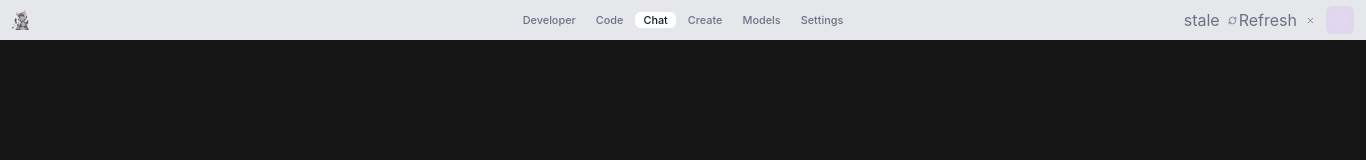
Test: die stale-Chip-X entfernt den Chip wirklich › bleibt weg, nachdem der Nutzer sie geklickt hat, statt im selben Zug wiederzukommen
Expected: the text "stale" is shown, [1184, 8, 1220, 32]
Click the button named "Dismiss". click: (1310, 20)
box: [1305, 14, 1316, 26]
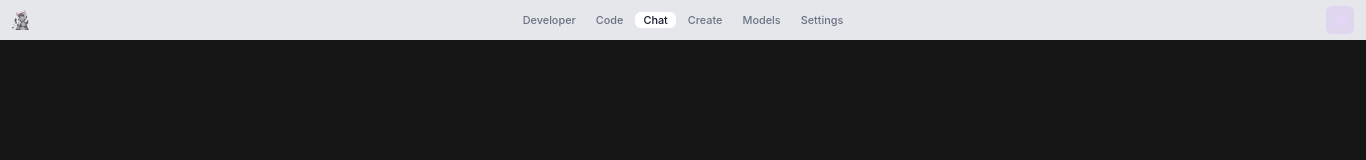
Expected: the text "stale" is gone
